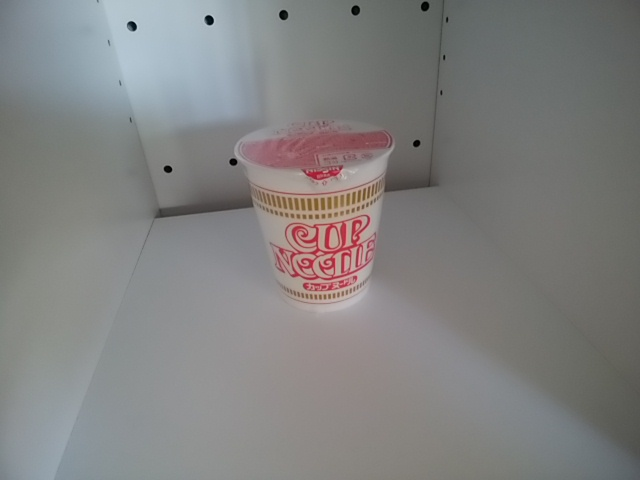cup-ramen: (231, 114, 403, 315)
